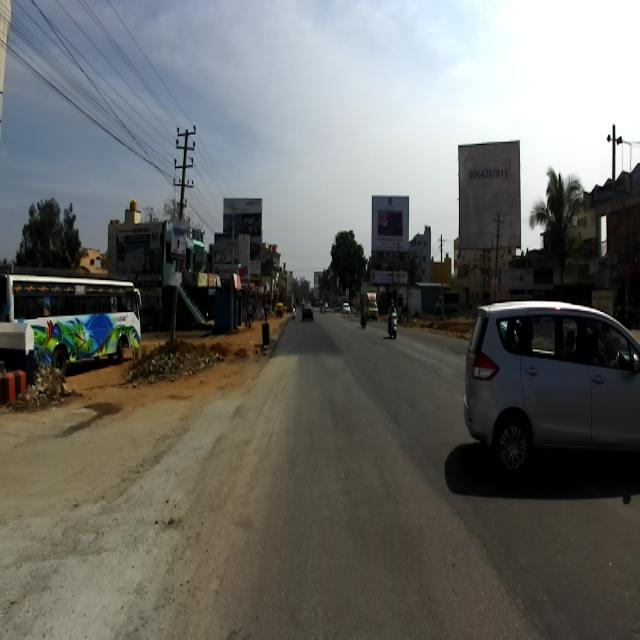car ahead at: (462, 285, 640, 490)
electric pole ahead at: (154, 109, 208, 394)
